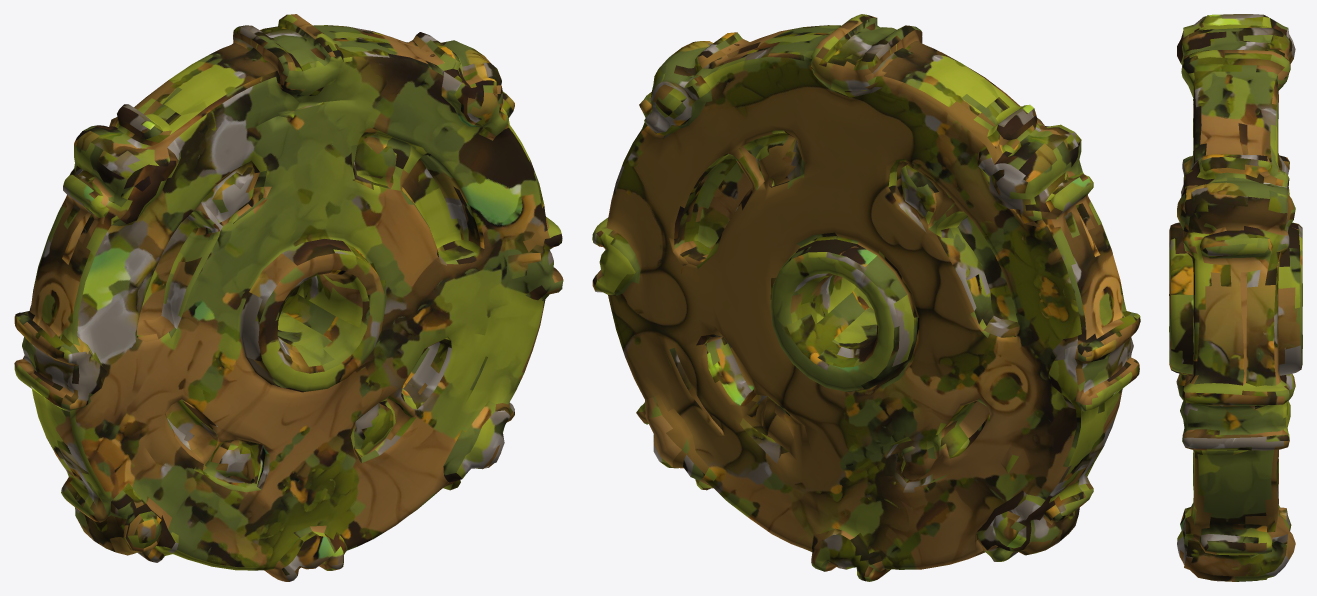
Rendered from nat-Base-6700.fbx.
3 renders of one model, left to right at view 1: azimuth 30°, elevation 25°; view 2: azimuth 150°, elevation 25°; view 3: azimuth 270°, elevation 25°, orthographic. The views are drawn at different scales.
Parts seen in each view (by area): view 1: tripo_node_5aa75860; view 2: tripo_node_5aa75860; view 3: tripo_node_5aa75860.
Part boxes in pixels (x1,y1,x2,y2): tripo_node_5aa75860: [14, 14, 563, 581]; tripo_node_5aa75860: [592, 14, 1140, 581]; tripo_node_5aa75860: [1169, 14, 1302, 581].
Size of the model in its own units: 0.9788 by 0.9777 by 0.2303.
